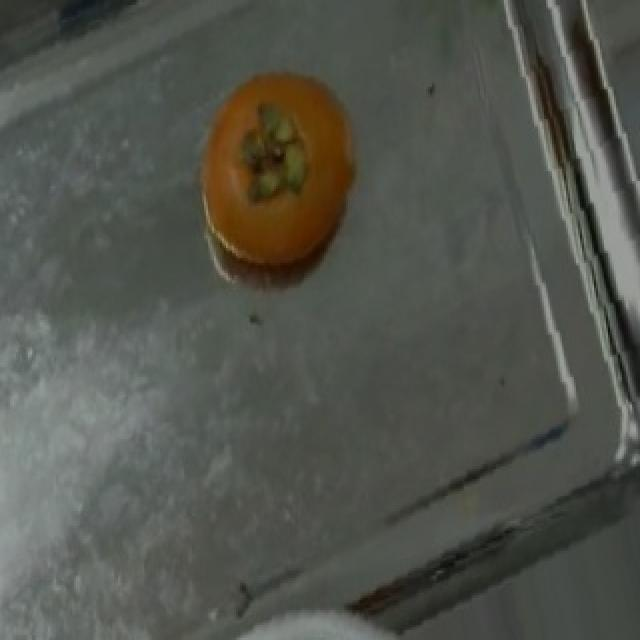Fruit: (180, 50, 382, 290)
